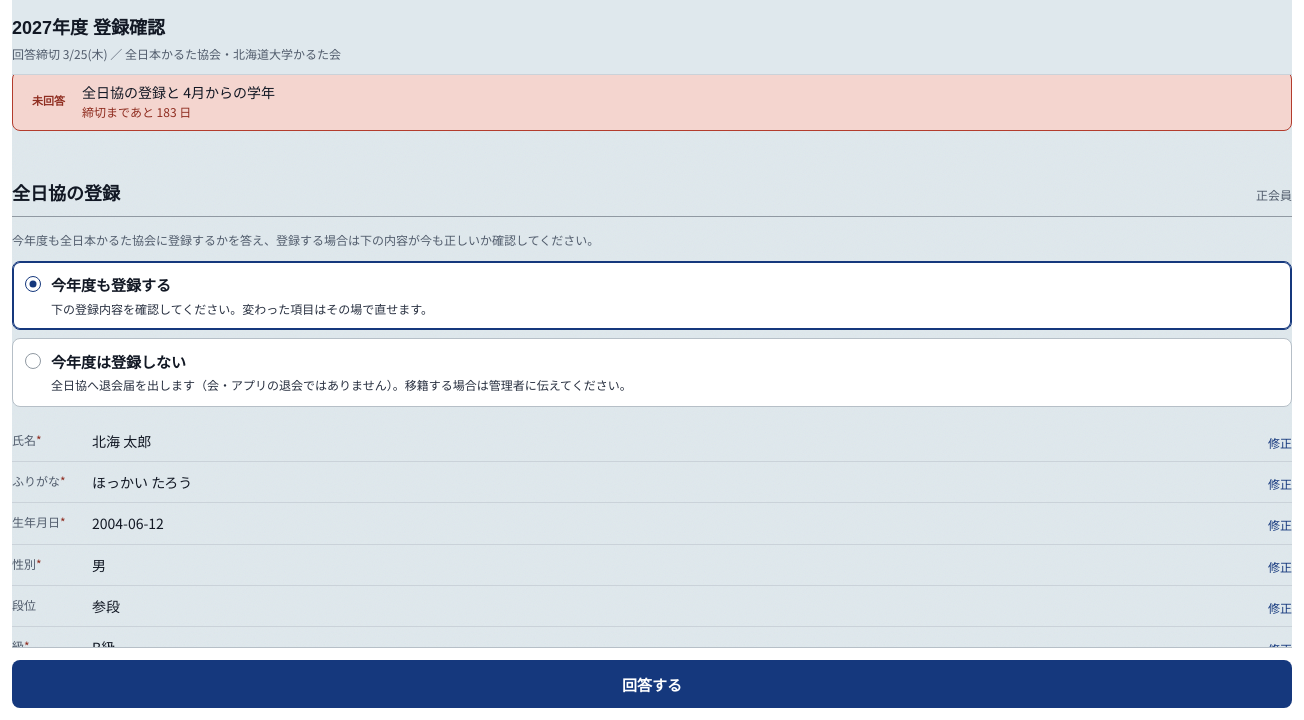
Test case: 行内修正の状態遷移 › 埋まっている行は値表示＋「修正」で始まり、押すと入力欄に切り替わる
Expected: the text "北海 太郎" is shown, [92,431,151,451]
Click the button "修正" in the row of "北海 太郎" at (1280, 443), box [1268,435,1292,451]
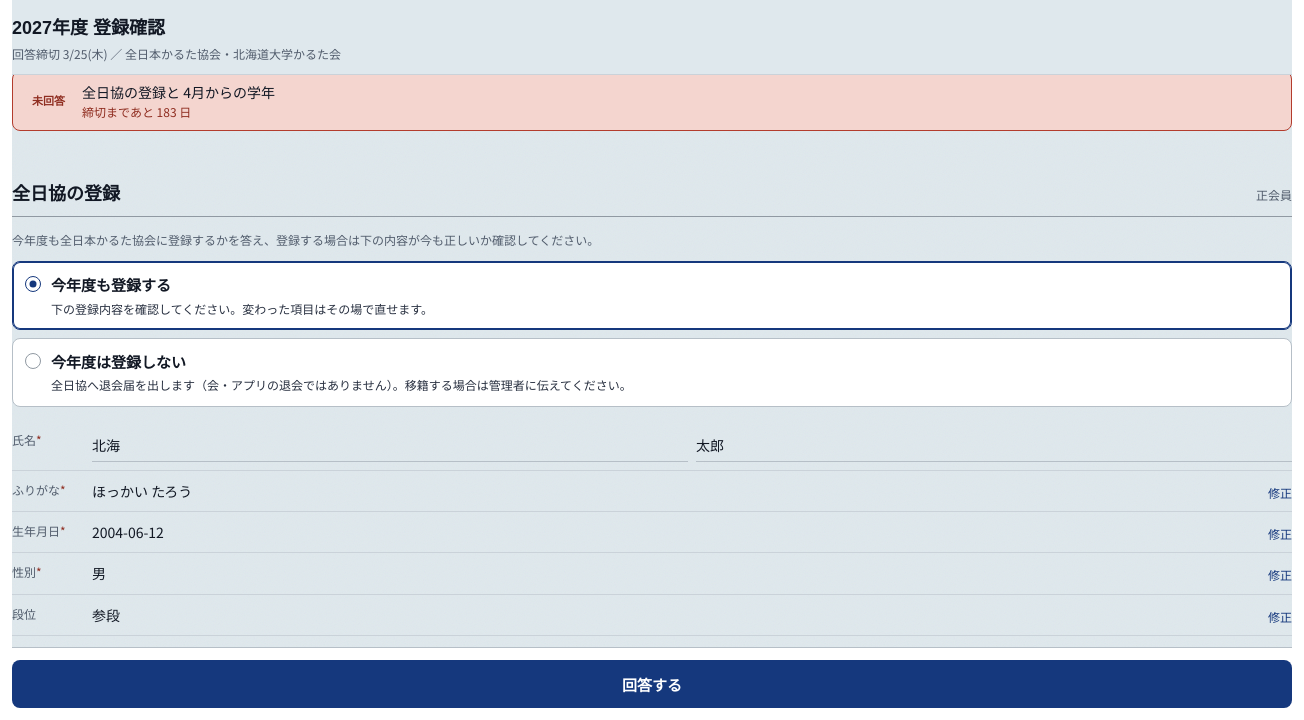
Expected: the field named "姓" holds "北海", [92,429,688,462]
Expected: the field named "名" holds "太郎", [696,429,1292,462]
